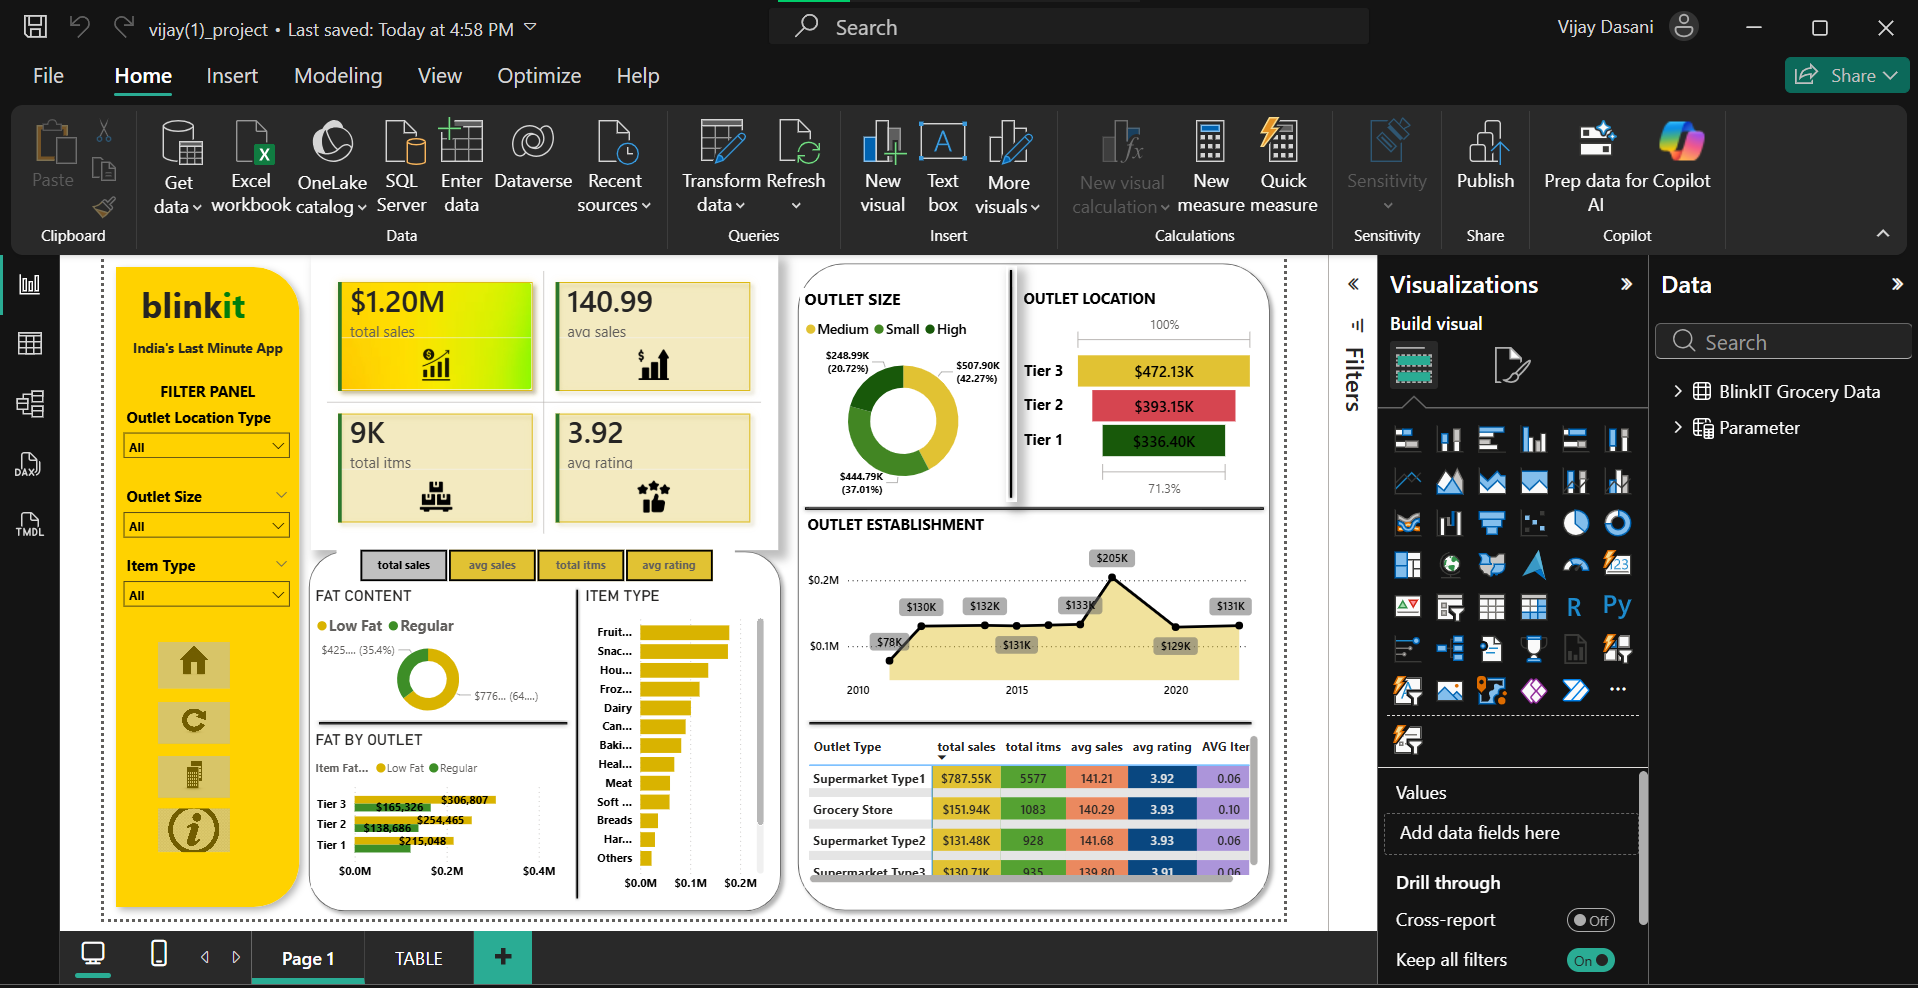

Layout of this report page (visuals, bound fields, positions):
{"tool":"powerbi","page":{"name":"Page 1","canvas":[1280,720],"ordinal":0},"visuals":[{"type":"shape","box":[0,0,225,720],"z":0},{"type":"textbox","box":[25,23.3,145,61.7],"z":1000},{"type":"textbox","box":[0,85,225,46.7],"z":2000},{"type":"cardVisual","fields":{"Data":["BlinkIT Grocery Data.total sales","BlinkIT Grocery Data.avg sales","BlinkIT Grocery Data.total itms","BlinkIT Grocery Data.avg rating"]},"box":[225,0,506.7,320],"z":3000},{"type":"shape","box":[213.3,311.7,530,408.3],"z":4000},{"type":"slicer","fields":{"Values":["Parameter.Parameter"]},"box":[251.7,311.7,431.7,48.3],"z":5000},{"type":"donutChart","title":"FAT CONTENT","fields":{"Y":["BlinkIT Grocery Data.total sales"],"Category":["BlinkIT Grocery Data.Item Fat Content"]},"box":[225,360,253.3,148.3],"z":6000},{"type":"clusteredBarChart","title":"FAT BY OUTLET","fields":{"Y":["BlinkIT Grocery Data.total sales"],"Series":["BlinkIT Grocery Data.Item Fat Content"],"Category":["BlinkIT Grocery Data.Outlet Location Type"]},"box":[224.5,515.6,279.8,170.8],"z":7000},{"type":"barChart","title":"ITEM TYPE","fields":{"Y":["BlinkIT Grocery Data.total sales"],"Category":["BlinkIT Grocery Data.Item Type"]},"box":[517.2,359.5,203.3,339.9],"z":8000},{"type":"shape","box":[228.3,501.7,280,13.3],"z":9000},{"type":"shape","box":[508.3,360,8.3,341.7],"z":10000},{"type":"shape","box":[743.3,0,530,720],"z":11000},{"type":"donutChart","title":"OUTLET SIZE","fields":{"Category":["BlinkIT Grocery Data.Outlet Size"],"Y":["BlinkIT Grocery Data.total sales"]},"box":[755,35,223.3,233.3],"z":12000},{"type":"funnel","title":"OUTLET LOCATION","fields":{"Y":["BlinkIT Grocery Data.total sales"],"Category":["BlinkIT Grocery Data.Outlet Location Type"]},"box":[991.7,35,260,233.3],"z":13000},{"type":"lineChart","title":"OUTLET  ESTABLISHMENT","fields":{"Category":["BlinkIT Grocery Data.Outlet Establishment Year"],"Y":["BlinkIT Grocery Data.total sales"]},"box":[758.3,281.7,491.7,208.3],"z":14000},{"type":"pivotTable","fields":{"Values":["BlinkIT Grocery Data.total sales","BlinkIT Grocery Data.total itms","BlinkIT Grocery Data.avg sales","BlinkIT Grocery Data.avg rating","Avg(BlinkIT Grocery Data.Item Visibility)"],"Rows":["BlinkIT Grocery Data.Outlet Type"]},"box":[760,515,496.7,170],"z":15000},{"type":"shape","box":[755,268.3,508.3,13.3],"z":16000},{"type":"shape","box":[760,501.7,490,13.3],"z":17000},{"type":"shape","box":[978.3,11.7,12,256.7],"z":18000},{"type":"slicer","fields":{"Values":["BlinkIT Grocery Data.Outlet Location Type"]},"box":[11.4,159.4,200.1,86.2],"z":19000},{"type":"slicer","fields":{"Values":["BlinkIT Grocery Data.Outlet Size"]},"box":[11.4,245.6,200.1,74.8],"z":20000},{"type":"slicer","fields":{"Values":["BlinkIT Grocery Data.Item Type"]},"box":[11.4,320.4,200.1,86.2],"z":21000},{"type":"textbox","box":[35,131.7,153.3,40],"z":22000},{"type":"actionButton","box":[58.6,419.6,78.1,50.4],"z":23000},{"type":"actionButton","box":[58.6,484.7,78.1,45.5],"z":24000},{"type":"actionButton","box":[58.6,543.3,78.1,45.5],"z":25000},{"type":"actionButton","box":[58.6,600.2,78.1,47.2],"z":26000}]}

Visuals, with their boxes on the page's 1280x720 design canvas (x1, y1, x2, y2). These are canvas units, not pixel positions in the 1918x988 screenshot, which may show the page scaled, cropped or inside an application window:
shape: 0 0 225 720
textbox: 25 23 170 85
textbox: 0 85 225 132
cardVisual - BlinkIT Grocery Data.total sales x BlinkIT Grocery Data.avg sales: 225 0 732 320
shape: 213 312 743 720
slicer - Parameter.Parameter: 252 312 683 360
"FAT CONTENT" donutChart: 225 360 478 508
"FAT BY OUTLET" clusteredBarChart: 224 516 504 686
"ITEM TYPE" barChart: 517 360 720 699
shape: 228 502 508 515
shape: 508 360 517 702
shape: 743 0 1273 720
"OUTLET SIZE" donutChart: 755 35 978 268
"OUTLET LOCATION" funnel: 992 35 1252 268
"OUTLET  ESTABLISHMENT" lineChart: 758 282 1250 490
pivotTable - BlinkIT Grocery Data.total sales x BlinkIT Grocery Data.total itms: 760 515 1257 685
shape: 755 268 1263 282
shape: 760 502 1250 515
shape: 978 12 990 268
slicer - BlinkIT Grocery Data.Outlet Location Type: 11 159 212 246
slicer - BlinkIT Grocery Data.Outlet Size: 11 246 212 320
slicer - BlinkIT Grocery Data.Item Type: 11 320 212 407
textbox: 35 132 188 172
actionButton: 59 420 137 470
actionButton: 59 485 137 530
actionButton: 59 543 137 589
actionButton: 59 600 137 647
